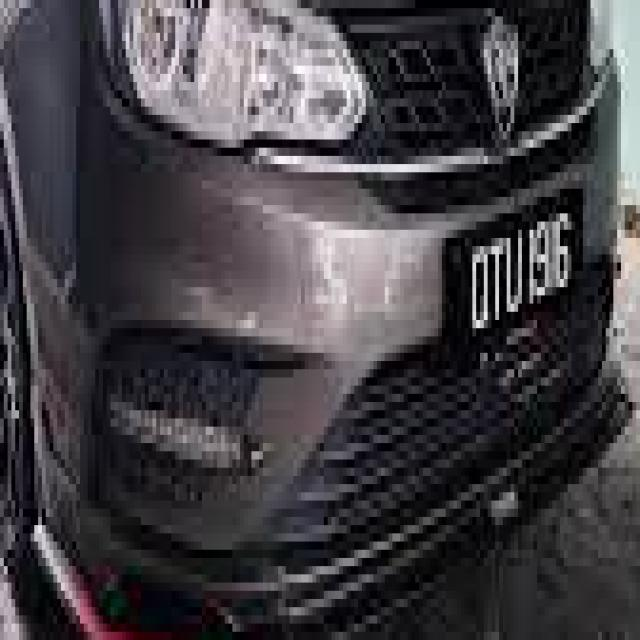car-plate: (447, 149, 595, 384)
